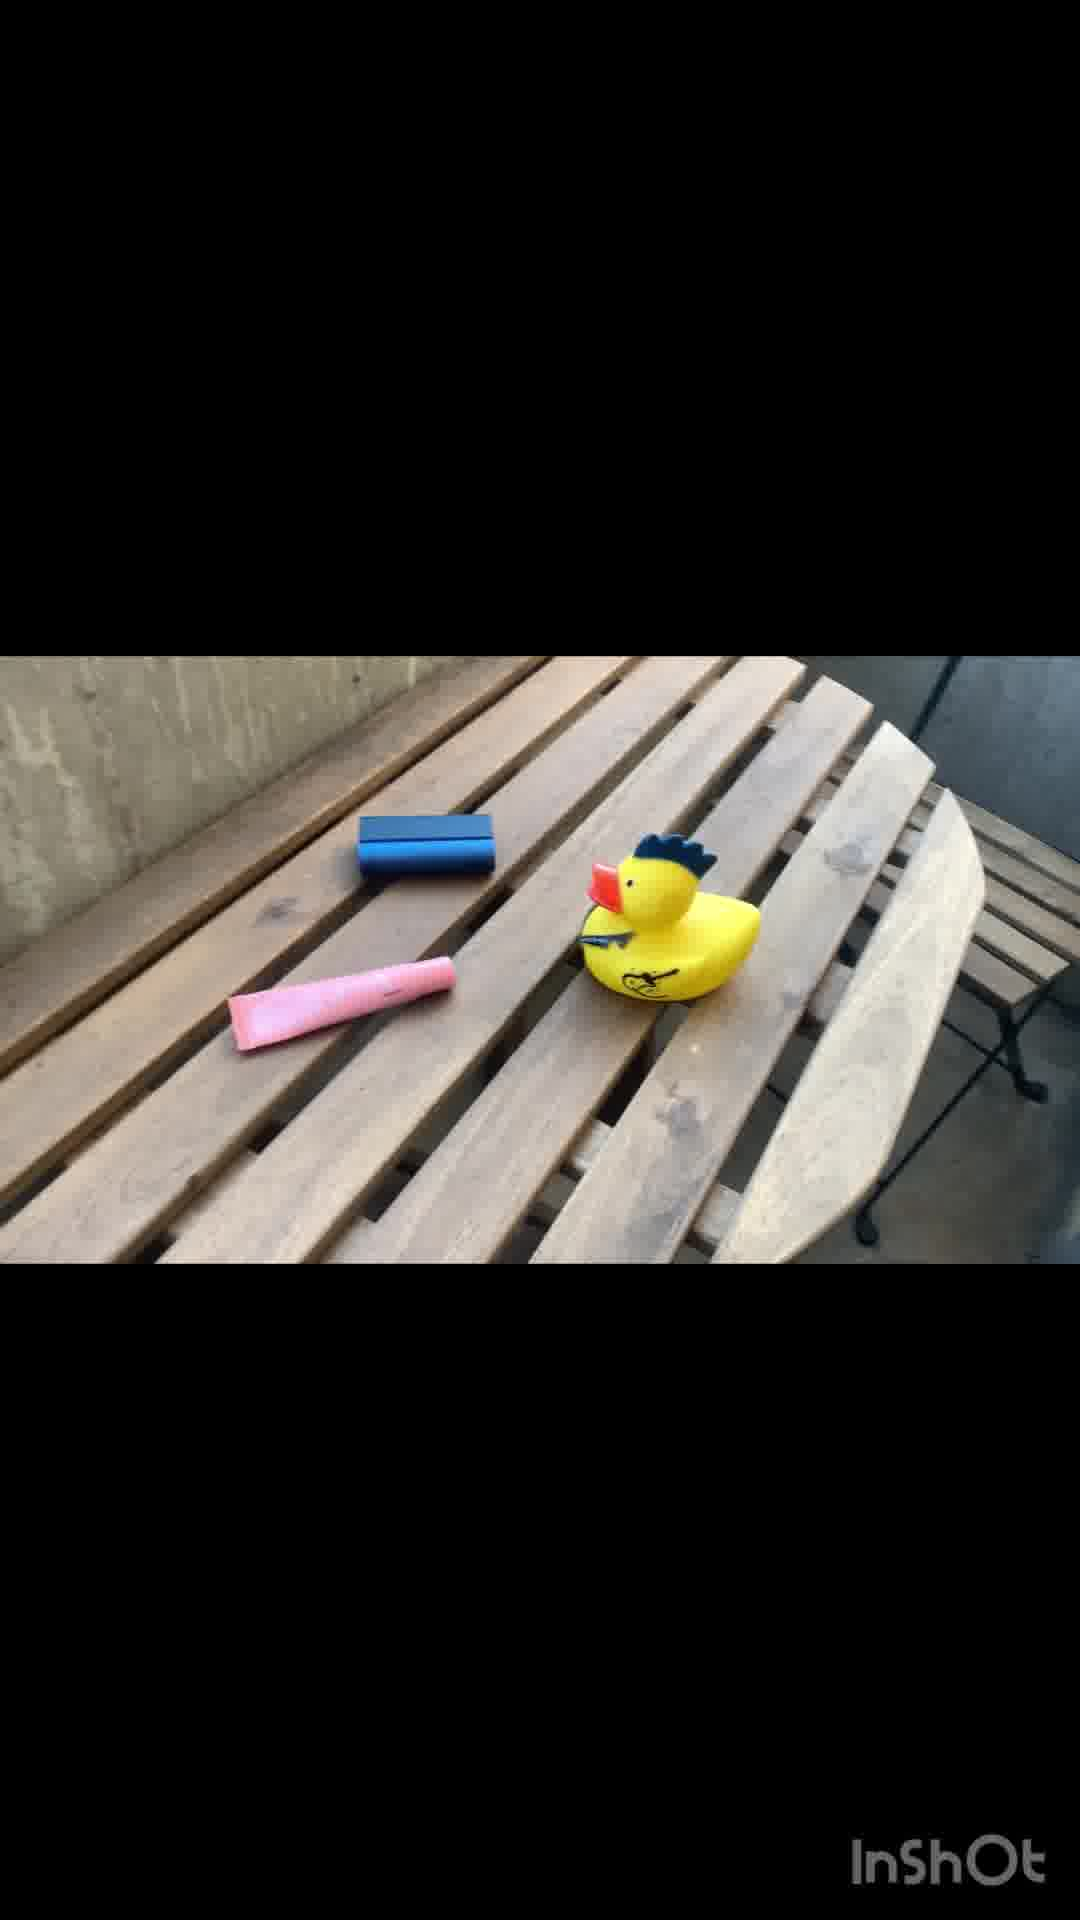duck: (572, 831, 767, 1004)
glo: (349, 803, 510, 890)
lip balm: (225, 945, 473, 1052)
